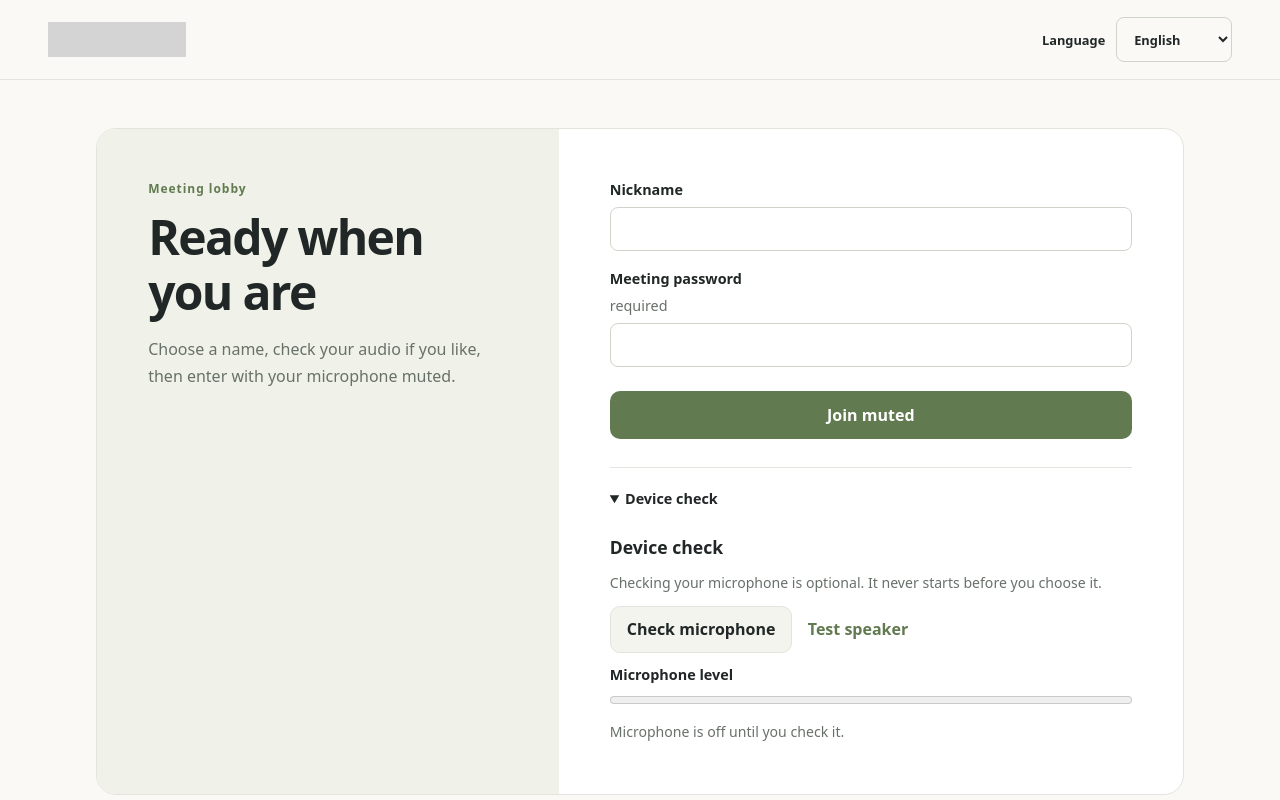
Test case: join lobby › marks and validates the password for a protected meeting
Type "Ada" into the field labelled "Nickname".
click(871, 229); type("Ada")  # box [610, 207, 1132, 251]
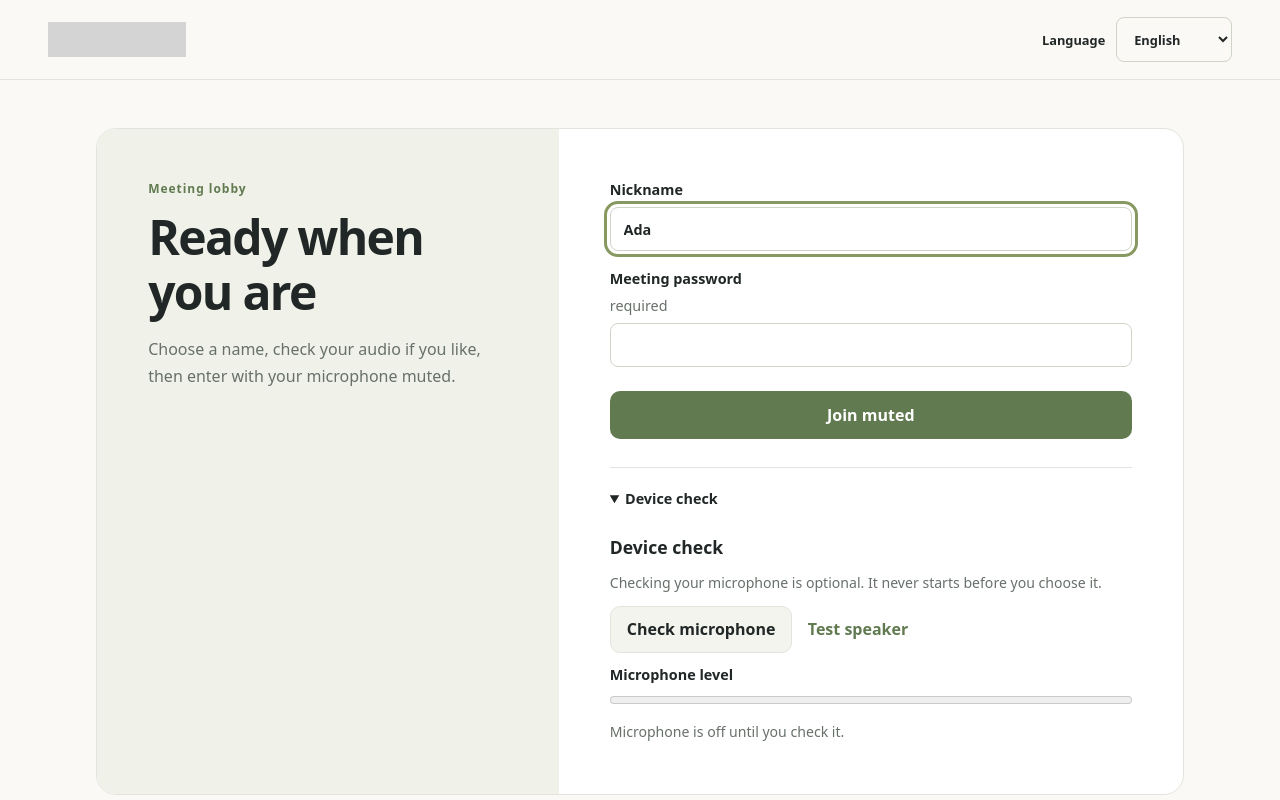
Click the button "Join muted".
click(871, 415)  # box [610, 391, 1132, 439]
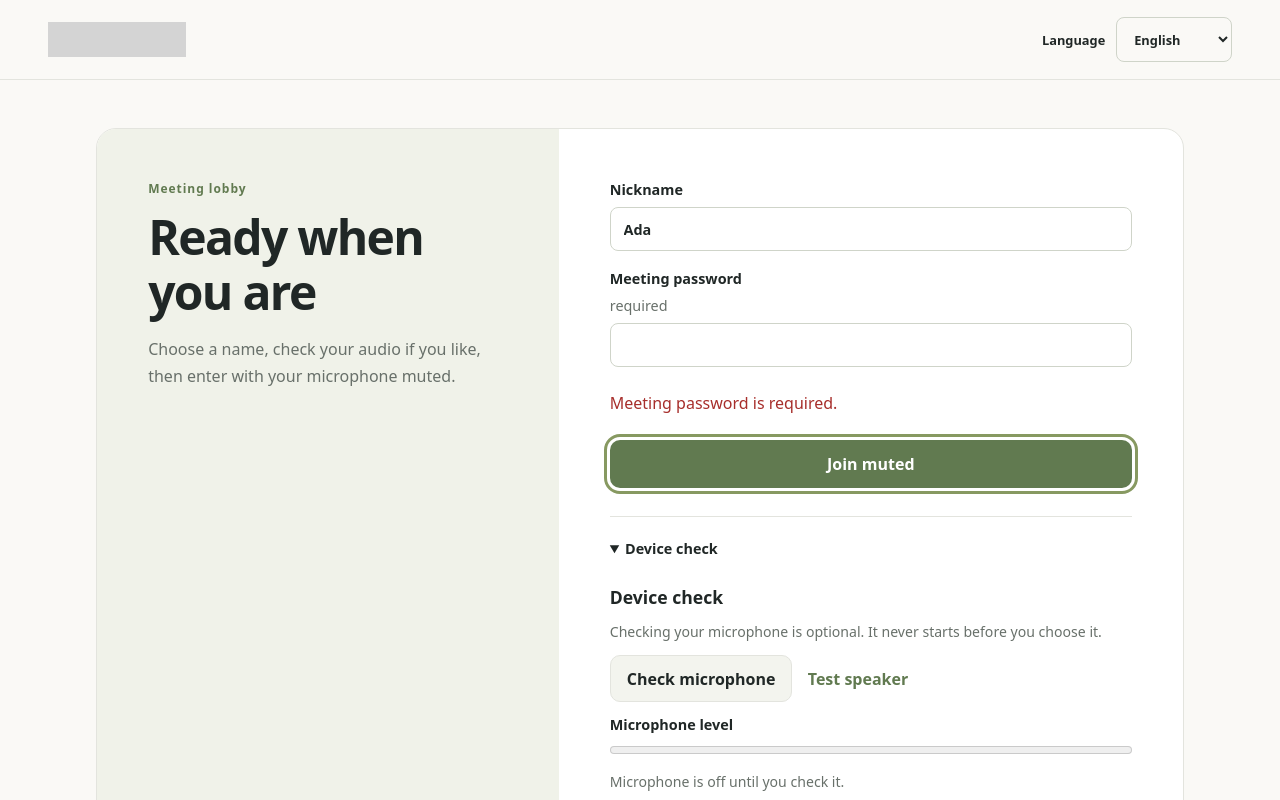
Result: the message "Meeting password is required." is shown at [610, 392, 837, 414]
